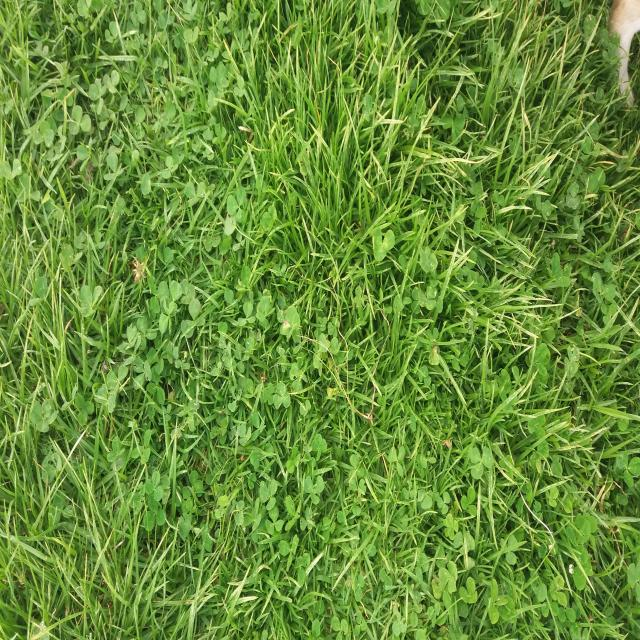Four Leaf Clover: (116, 126, 172, 213), (334, 369, 375, 440), (282, 304, 301, 343)
